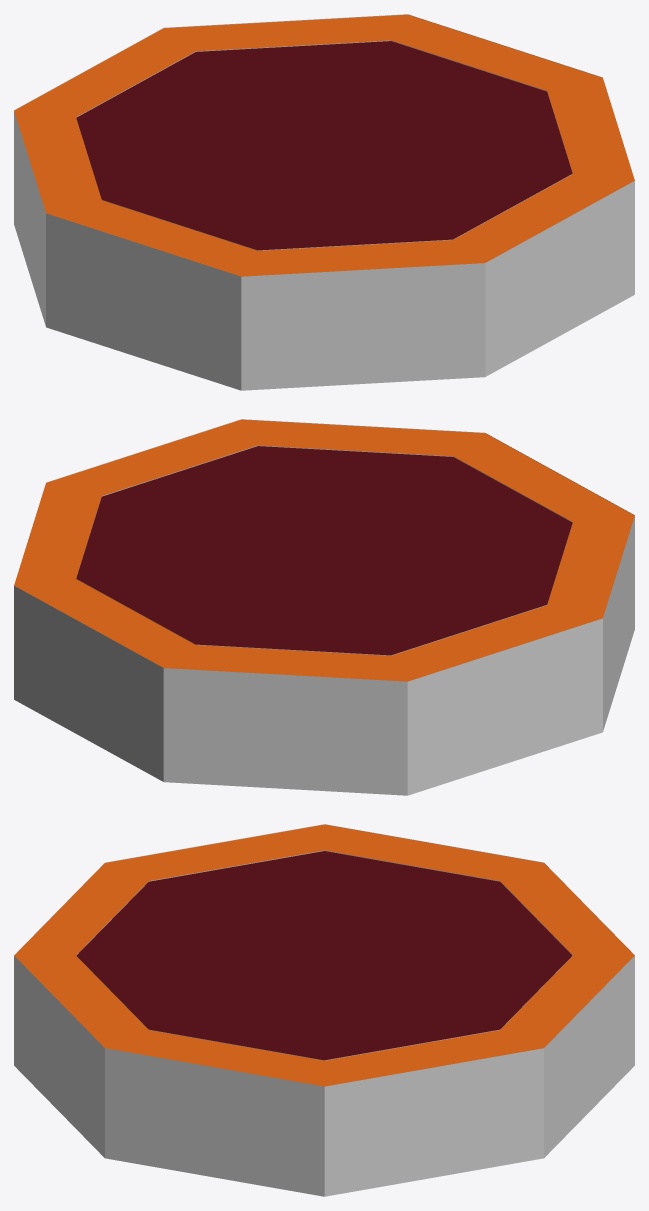
File: octangle_v1.2.fbx
The picture shows the model from 3 angles, top to bottom: view 1: azimuth 30°, elevation 25°; view 2: azimuth 150°, elevation 25°; view 3: azimuth 270°, elevation 25°; orthographic projection. The views are drawn at different scales.
Parts seen in each view (by area): view 1: RoomRoof, Walls, OuterRoof; view 2: RoomRoof, Walls, OuterRoof; view 3: RoomRoof, Walls, OuterRoof.
Part boxes in pixels (<box>): RoomRoof: <box>76,41,572,250</box>; Walls: <box>14,14,634,390</box>; OuterRoof: <box>14,14,634,276</box>; RoomRoof: <box>76,446,572,655</box>; Walls: <box>14,419,634,795</box>; OuterRoof: <box>14,419,634,681</box>; RoomRoof: <box>76,851,572,1060</box>; Walls: <box>14,824,634,1196</box>; OuterRoof: <box>14,824,634,1086</box>.
Bounding box in the file's own units: 2000 × 392 × 2000.
